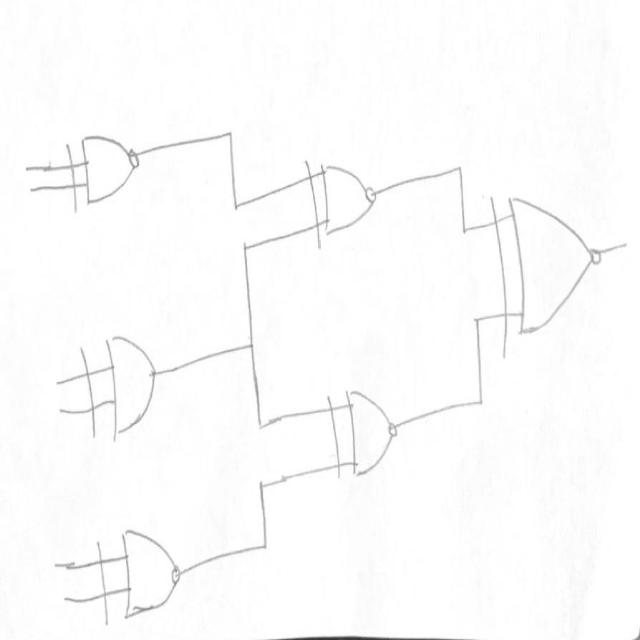XNOR: (487, 176, 607, 369), (85, 525, 201, 627), (321, 372, 409, 494), (296, 140, 392, 248), (63, 122, 153, 216)
XOR: (68, 335, 183, 452)
